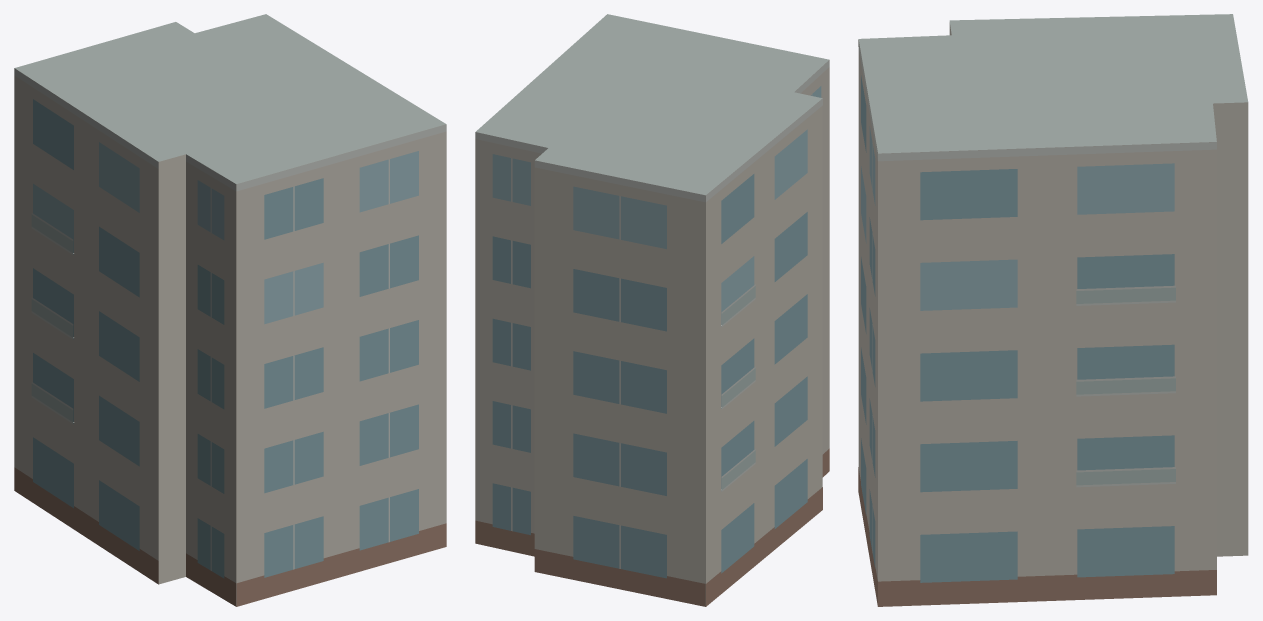
Rendered from survey-upis-32955476.glb.
3 renders of one model, left to right at view 1: azimuth 30°, elevation 25°; view 2: azimuth 150°, elevation 25°; view 3: azimuth 270°, elevation 25°, orthographic. The views are drawn at different scales.
Visible parts, largest first — view 1: survey-upis-32955476.tmp; view 2: survey-upis-32955476.tmp; view 3: survey-upis-32955476.tmp.
Part boxes in pixels (x1=…): survey-upis-32955476.tmp: x1=14, y1=14, x2=446, y2=606; survey-upis-32955476.tmp: x1=475, y1=14, x2=829, y2=606; survey-upis-32955476.tmp: x1=858, y1=14, x2=1248, y2=606.
Size of the model in its own units: 9.39 by 14.2 by 11.08.
